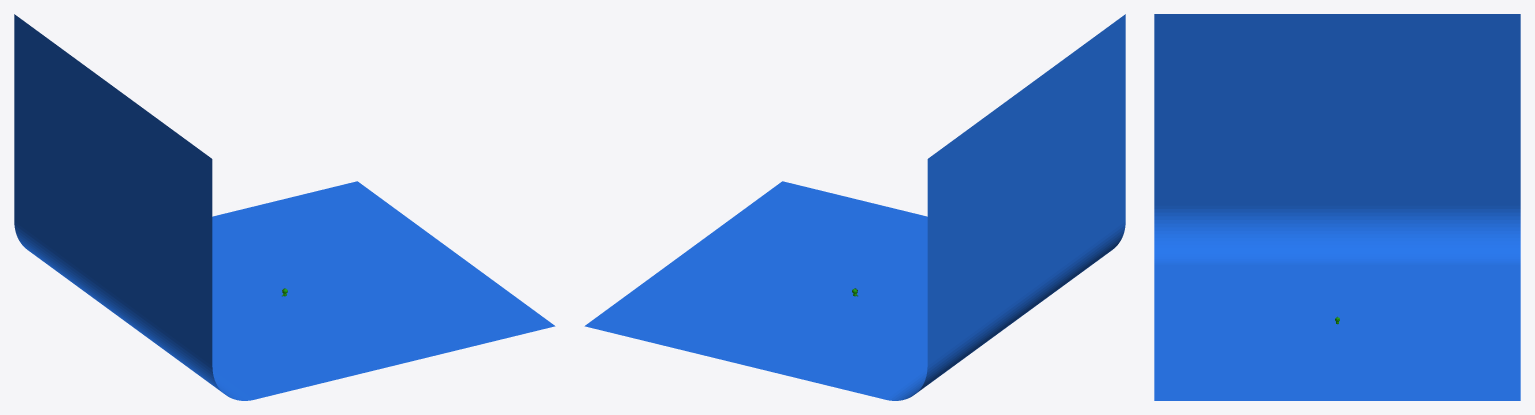
The model's file is dinosaur.fbx.
3 renders of one model, left to right at view 1: azimuth 30°, elevation 25°; view 2: azimuth 150°, elevation 25°; view 3: azimuth 270°, elevation 25°, orthographic. The views are drawn at different scales.
Parts seen in each view (by area): view 1: Plane; view 2: Plane; view 3: Plane.
Boxes of the visible parts, x1=… form: Plane: x1=14, y1=14, x2=555, y2=400; Plane: x1=584, y1=14, x2=1125, y2=400; Plane: x1=1154, y1=14, x2=1520, y2=400.
Size of the model in its own units: 13001 by 9087 by 13001.
